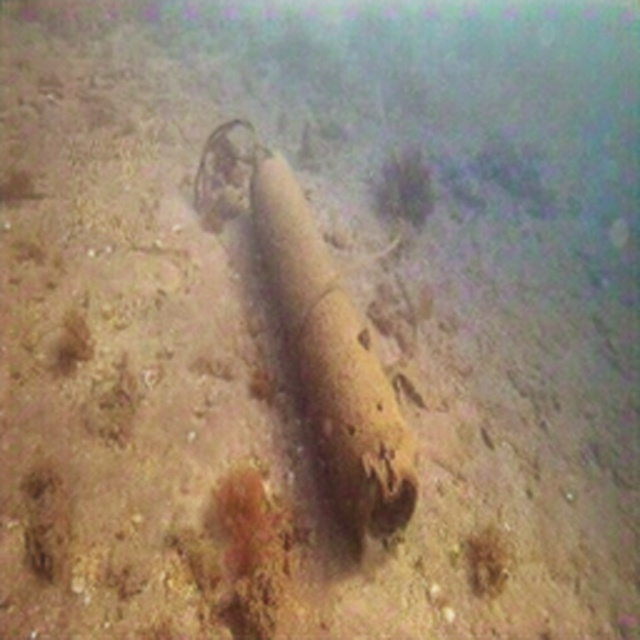mine: (247, 148, 419, 552)
